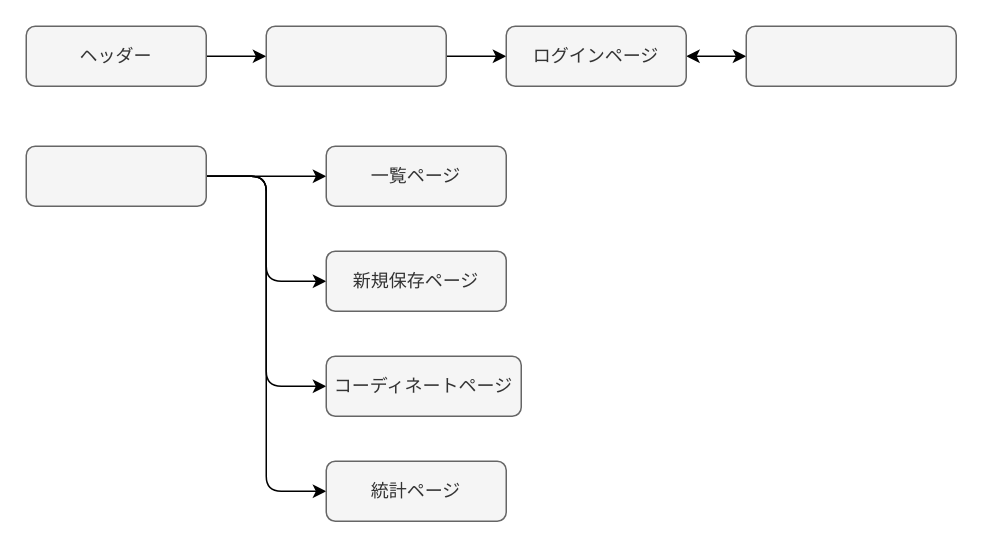
Some shapes in this 983 by 548 pixel diagram are drawn without their labels. The shapes that lost their labels are listed below. From the top down, each one's box as (x1, y1, x2, y2) in pixels, then its label:
(265, 25, 446, 86): ユーザー編集ページ
(745, 25, 956, 86): ユーザー新規登録ページ
(25, 145, 206, 206): フッター
